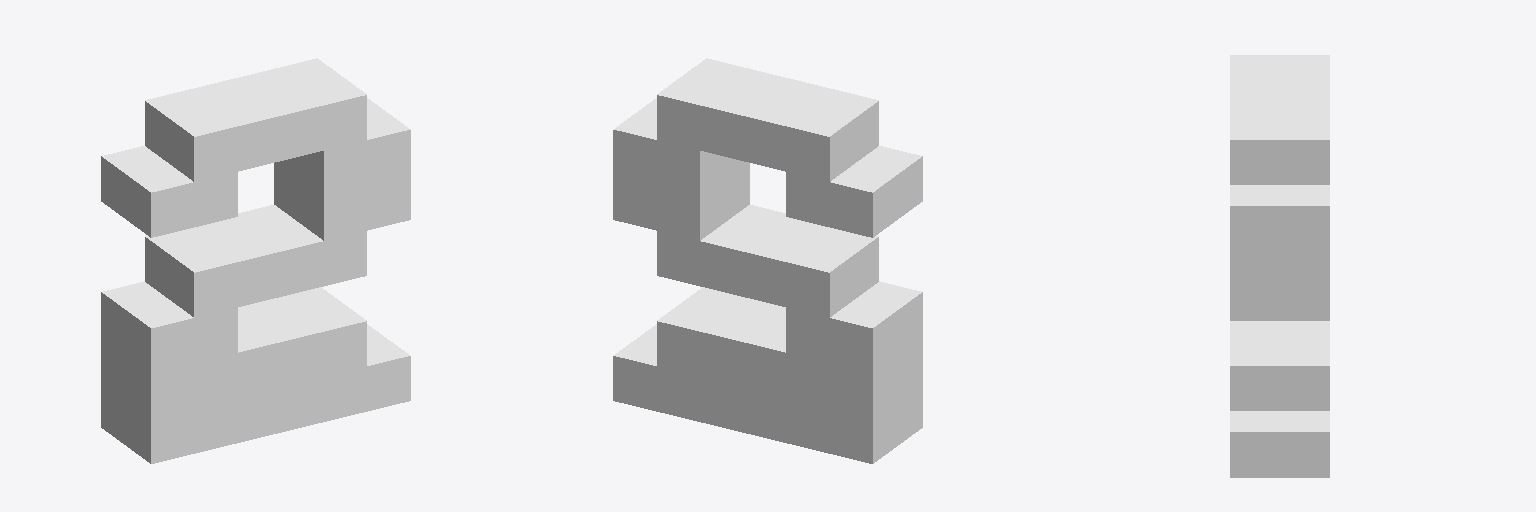
Rendered from Number2.obj.
The picture shows the model from 3 angles: view 1: azimuth 30°, elevation 25°; view 2: azimuth 150°, elevation 25°; view 3: azimuth 270°, elevation 25°; orthographic projection.
Visible parts, largest first — view 1: object 1; view 2: object 1; view 3: object 1.
Boxes of the visible parts, <box> form: object 1: <box>101,58,410,463</box>; object 1: <box>613,58,922,463</box>; object 1: <box>1230,55,1329,477</box>.
Size of the model in its own units: 0.6 by 0.7 by 0.2.